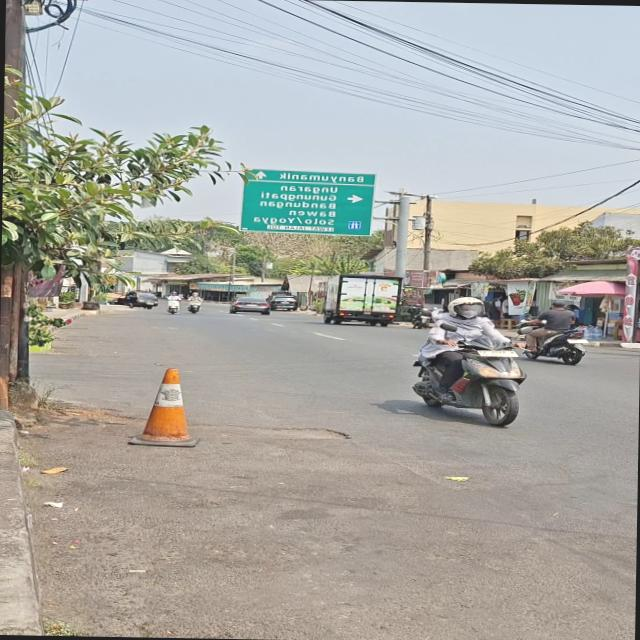WithHelmet: (416, 296, 527, 402), (162, 290, 184, 309), (182, 292, 205, 310)
WithoutHelmet: (521, 299, 587, 366)
